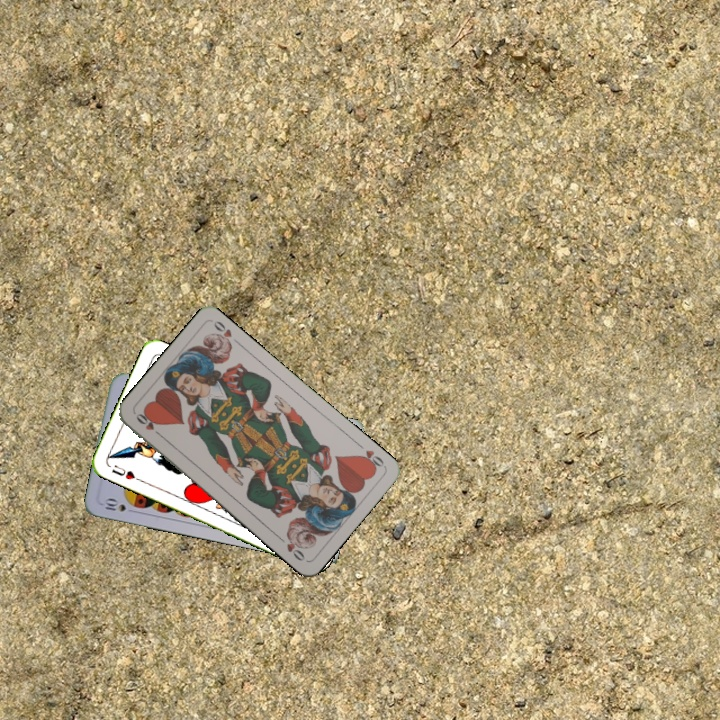HO: (353, 439, 387, 473), (132, 409, 165, 440)
HU: (108, 461, 137, 482)
S10: (98, 494, 139, 515)
